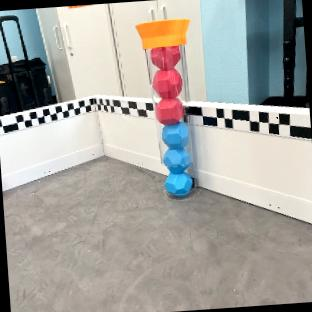Loader: (135, 17, 198, 198)
V5_BLUE: (160, 121, 192, 196), (165, 170, 191, 196)
V5_RED: (151, 63, 182, 98), (154, 94, 184, 123), (149, 45, 180, 69)
